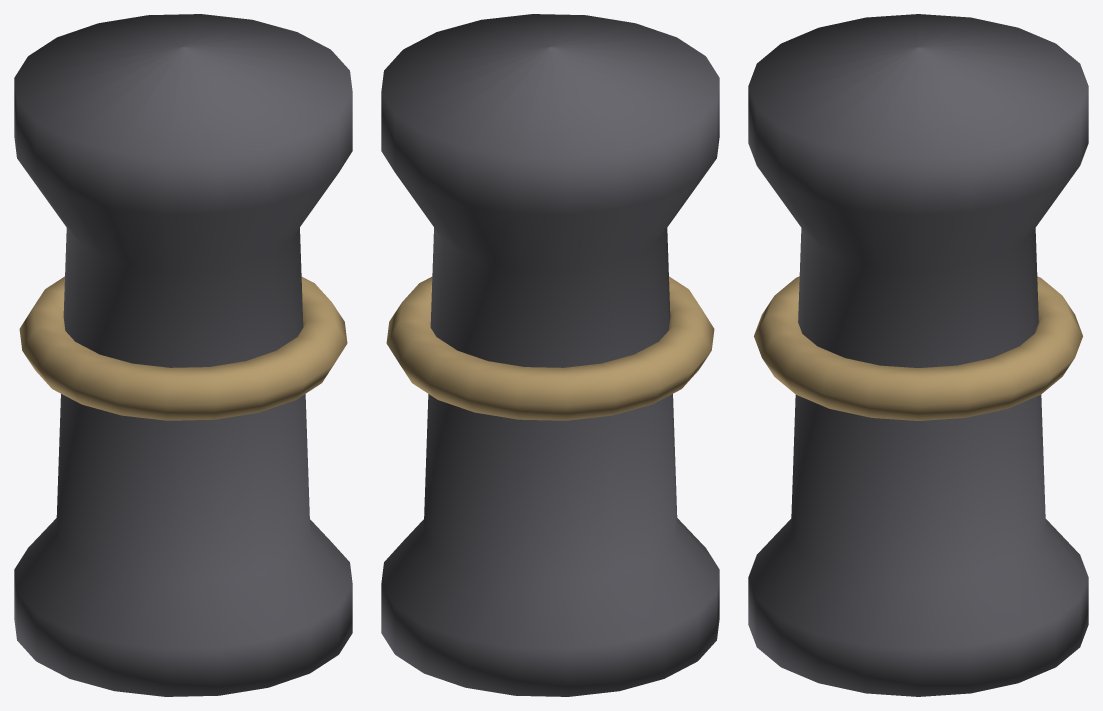
File: poller.glb
3 views of the same model, side by side, from view 1: azimuth 30°, elevation 25°; view 2: azimuth 150°, elevation 25°; view 3: azimuth 270°, elevation 25° (orthographic).
Visible parts, largest first — view 1: d; view 2: d; view 3: d.
Part boxes in pixels (bbox=[...]): d: bbox=[14, 14, 352, 696]; d: bbox=[381, 14, 719, 696]; d: bbox=[748, 14, 1088, 696].
Size of the model in its own units: 0.32 by 0.6 by 0.32.
